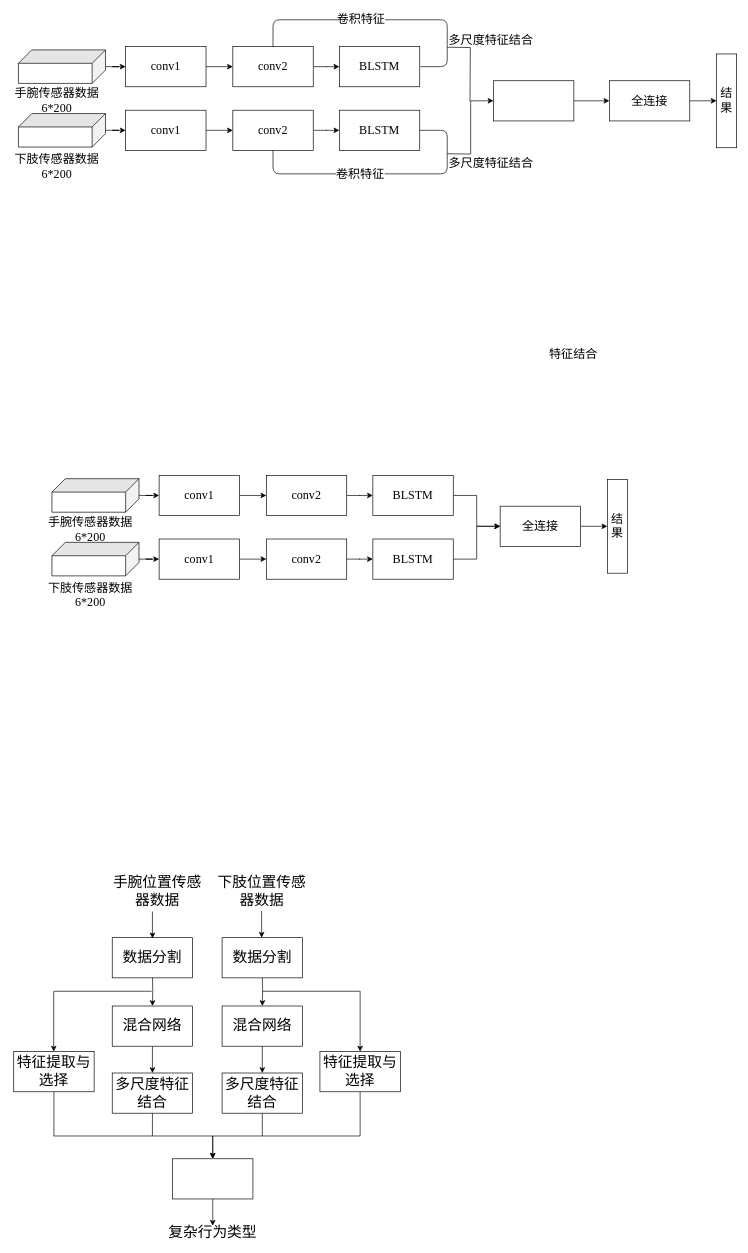
Image size: 748x1253. Some labels were removed from this diagram. Here are the shapes that lost their labels. From the top down, the centre of each, then its label:
At pixel 533 100: "均值池化".
At pixel 212 1178: "特征融合".
